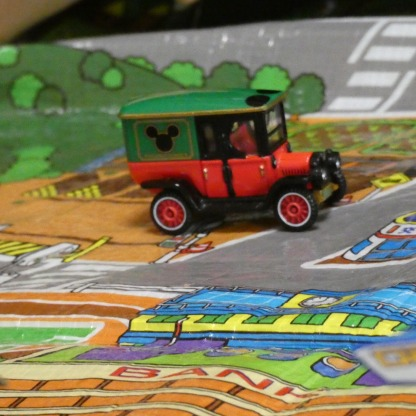car: (119, 89, 346, 235)
